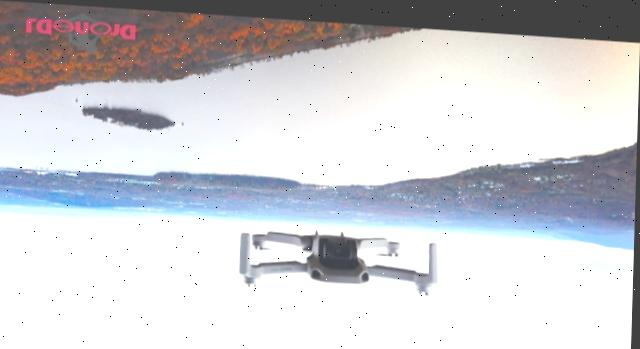drone: (239, 219, 452, 295)
